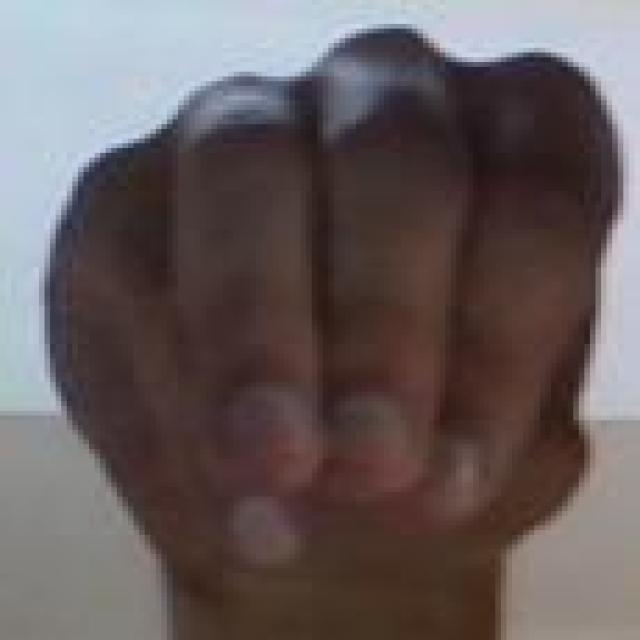M: (8, 3, 640, 607)
